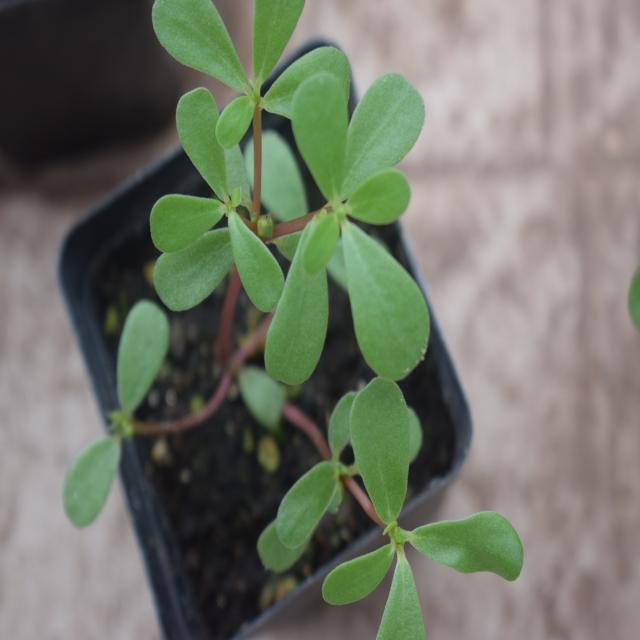purslane: (152, 0, 522, 618)
